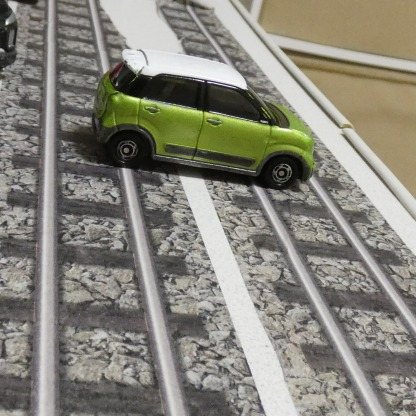car: (91, 48, 311, 193)
